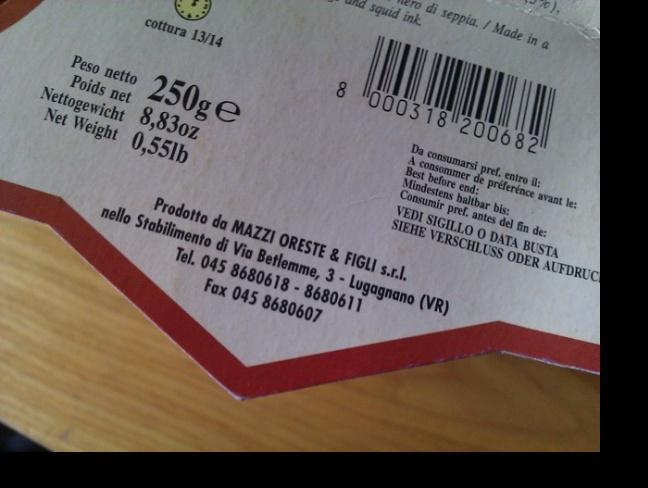Barcode: (322, 23, 574, 166)
